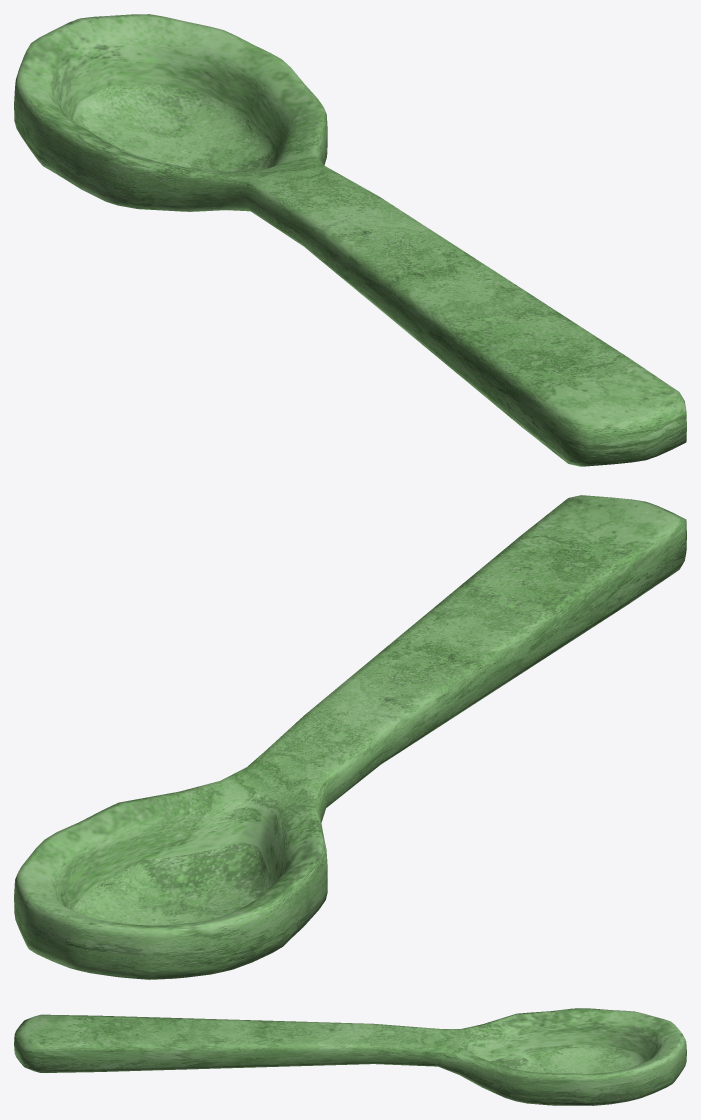
The model's file is Spoon.fbx.
The picture shows the model from 3 angles, top to bottom: view 1: azimuth 30°, elevation 25°; view 2: azimuth 150°, elevation 25°; view 3: azimuth 270°, elevation 25°; orthographic projection. The views are drawn at different scales.
Parts seen in each view (by area): view 1: Cylinder.001; view 2: Cylinder.001; view 3: Cylinder.001.
Part boxes in pixels (x1=…): Cylinder.001: x1=14, y1=14, x2=686, y2=466; Cylinder.001: x1=14, y1=495, x2=686, y2=979; Cylinder.001: x1=14, y1=1008, x2=686, y2=1105.
Bounding box in the file's own units: 8.78 × 3.55 × 35.48.
Materials: 1 (1 with a texture image).
